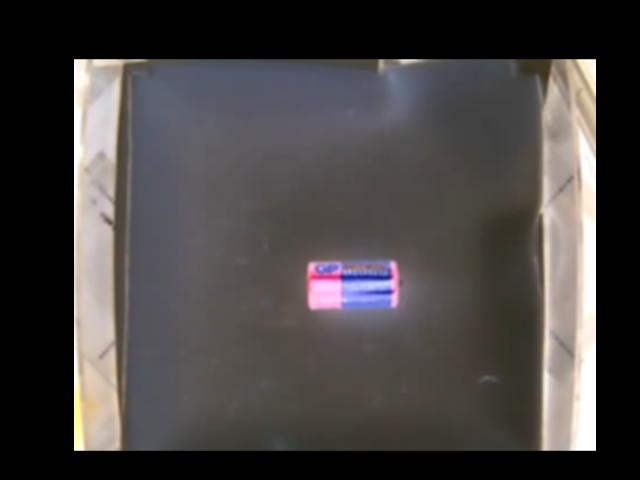Battery: (308, 259, 401, 310)
